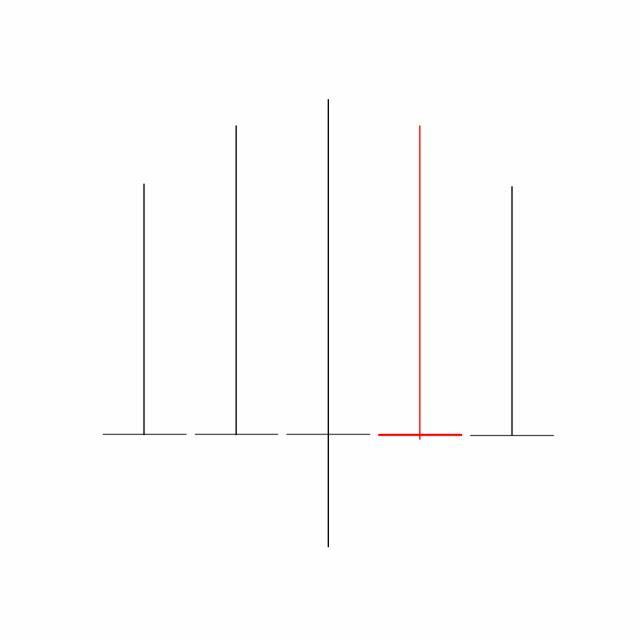Gravestone Doji: (466, 184, 559, 439)
